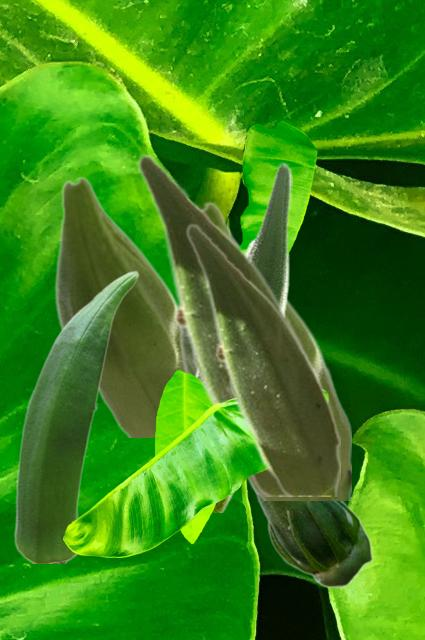okra: (136, 152, 320, 495), (178, 201, 350, 499), (185, 222, 339, 495), (13, 270, 138, 562), (54, 176, 182, 436), (214, 161, 291, 511), (255, 495, 372, 587)
